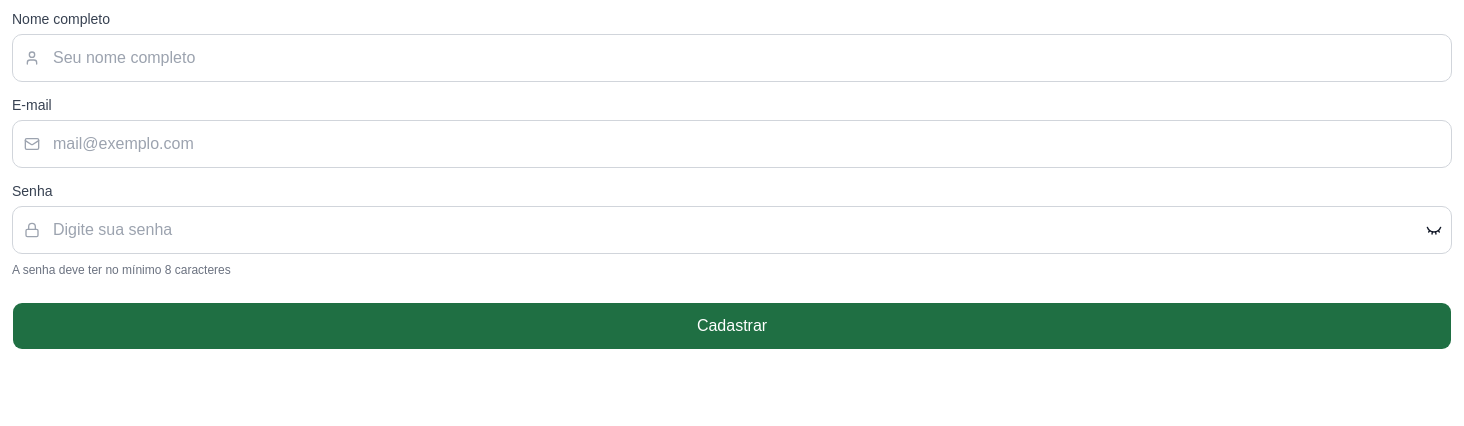
Test: RegisterForm › shows "O nome é obrigatório" when submitting with an empty name
This screenshot has width=1464, height=426.
What coordinates should you click on to do the following:
click the button "Cadastrar"
I would click on:
 (732, 326)
Its box is [12, 302, 1452, 350].
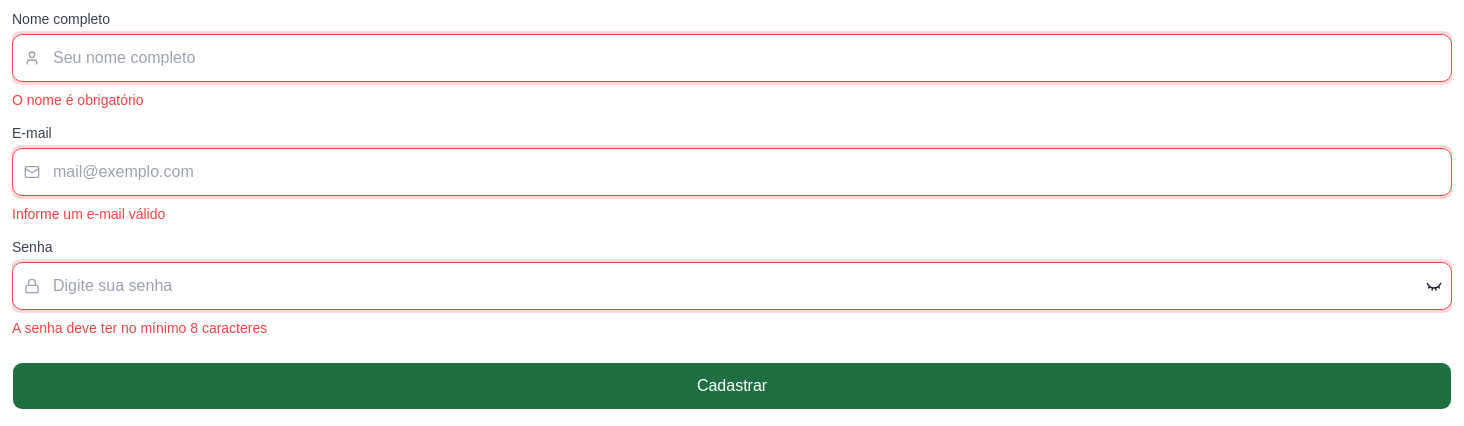
Result: the text "O nome é obrigatório" is shown at [12, 92, 144, 108]
